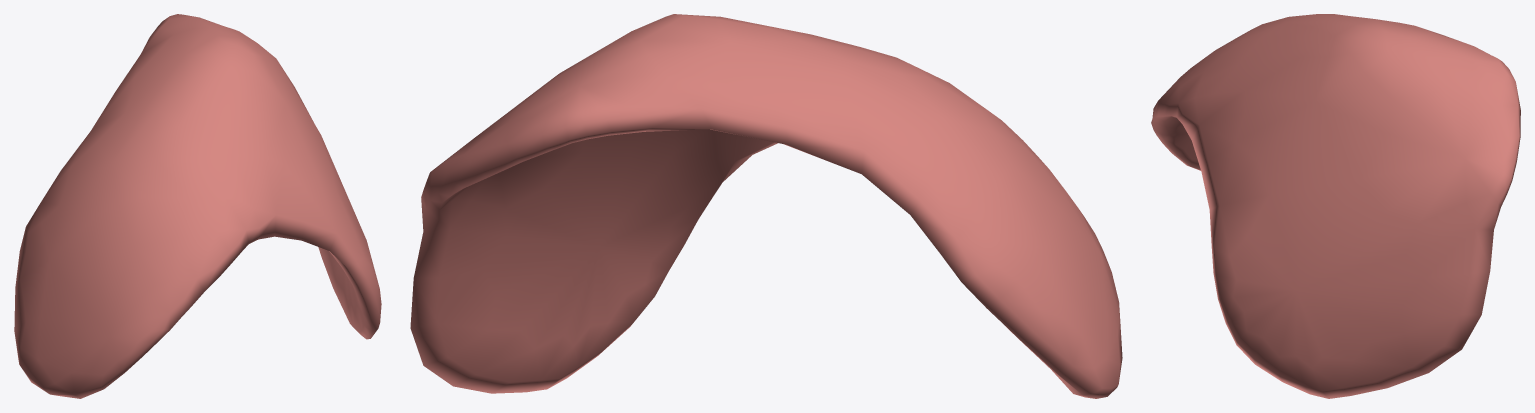
3 renders of one model, left to right at view 1: azimuth 30°, elevation 25°; view 2: azimuth 150°, elevation 25°; view 3: azimuth 270°, elevation 25°, orthographic. The views are drawn at different scales.
Visible parts, largest first — view 1: ZA_77c3242f410ad083; view 2: ZA_77c3242f410ad083; view 3: ZA_77c3242f410ad083.
Part boxes in pixels (x1,y1,x2,y2): ZA_77c3242f410ad083: (14, 14, 381, 398); ZA_77c3242f410ad083: (410, 14, 1122, 398); ZA_77c3242f410ad083: (1151, 14, 1520, 398).
Size of the model in its own units: 0.00904 by 0.00674 by 0.00726.
